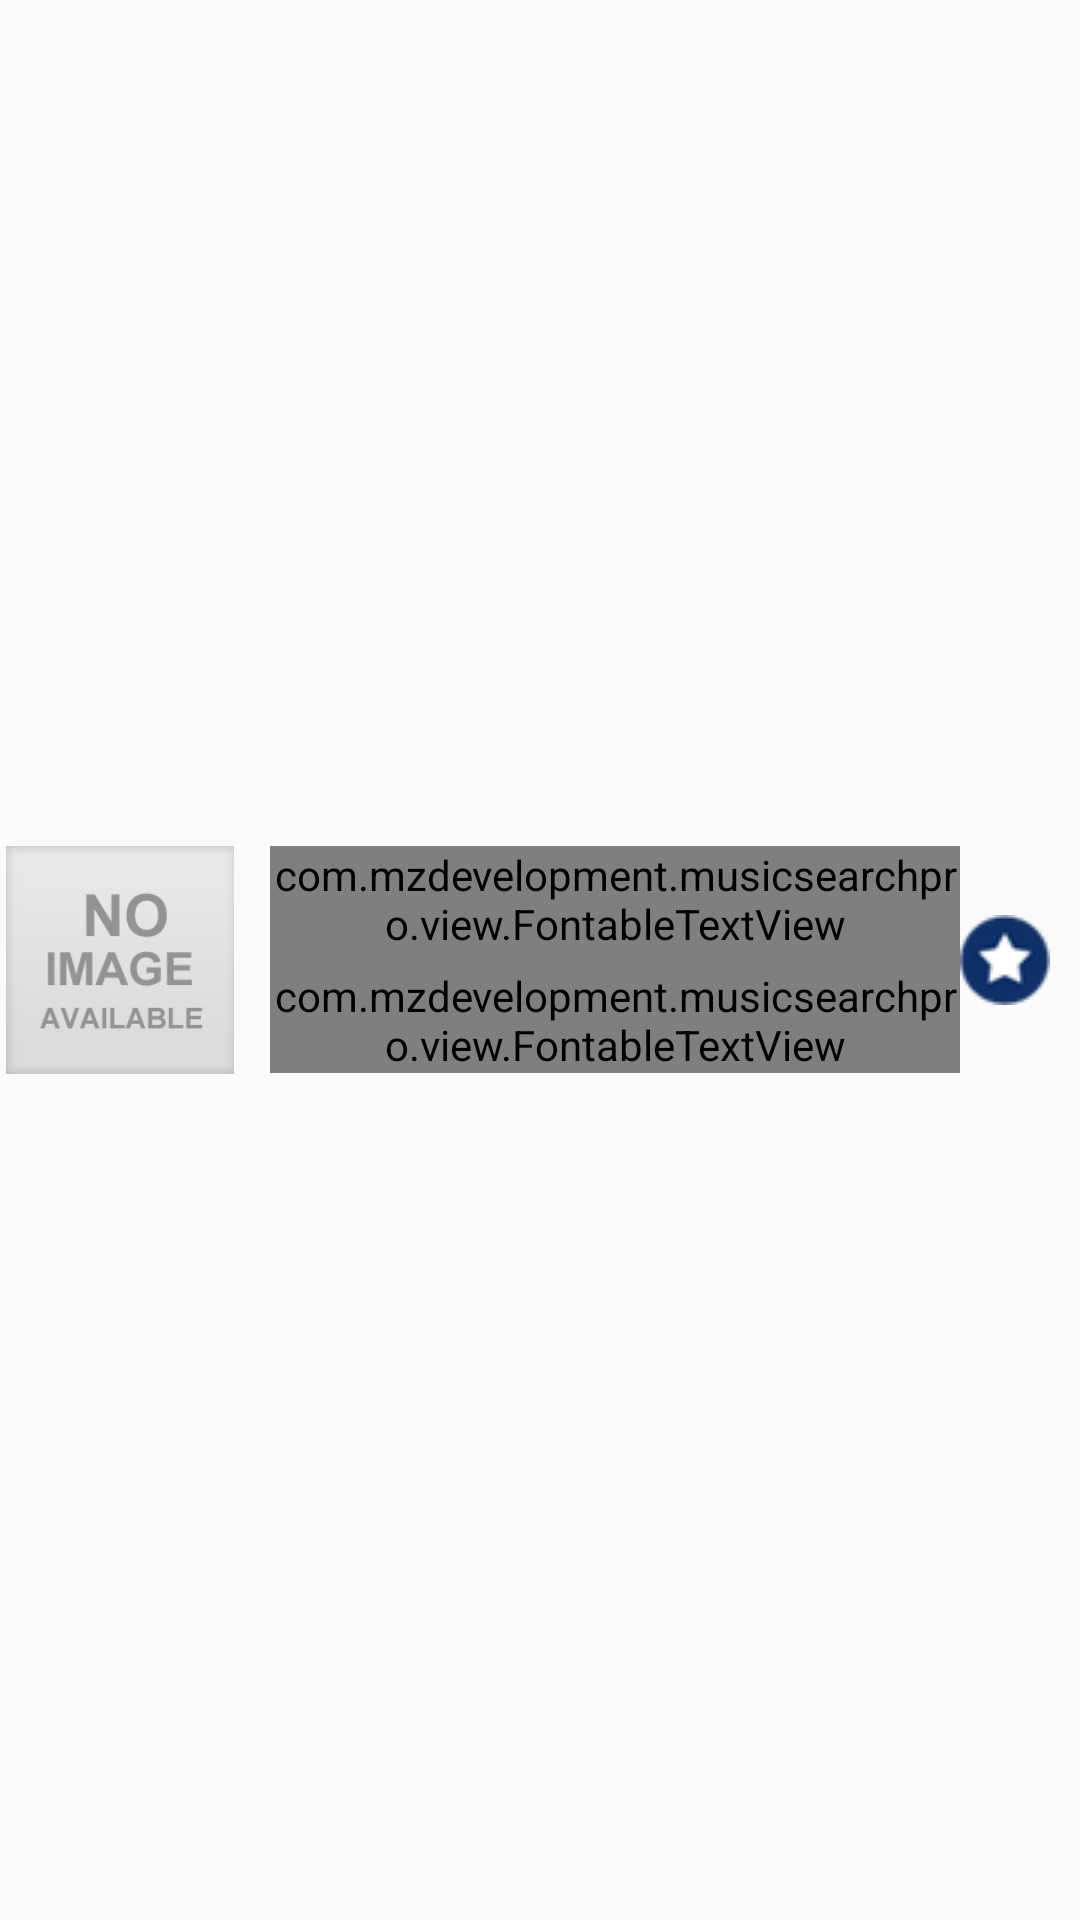

Screen size 1080px×1920px. Icon name, then its box in pixels as (x1, y1, x2, y2):
star: (960, 915, 1050, 1005)
